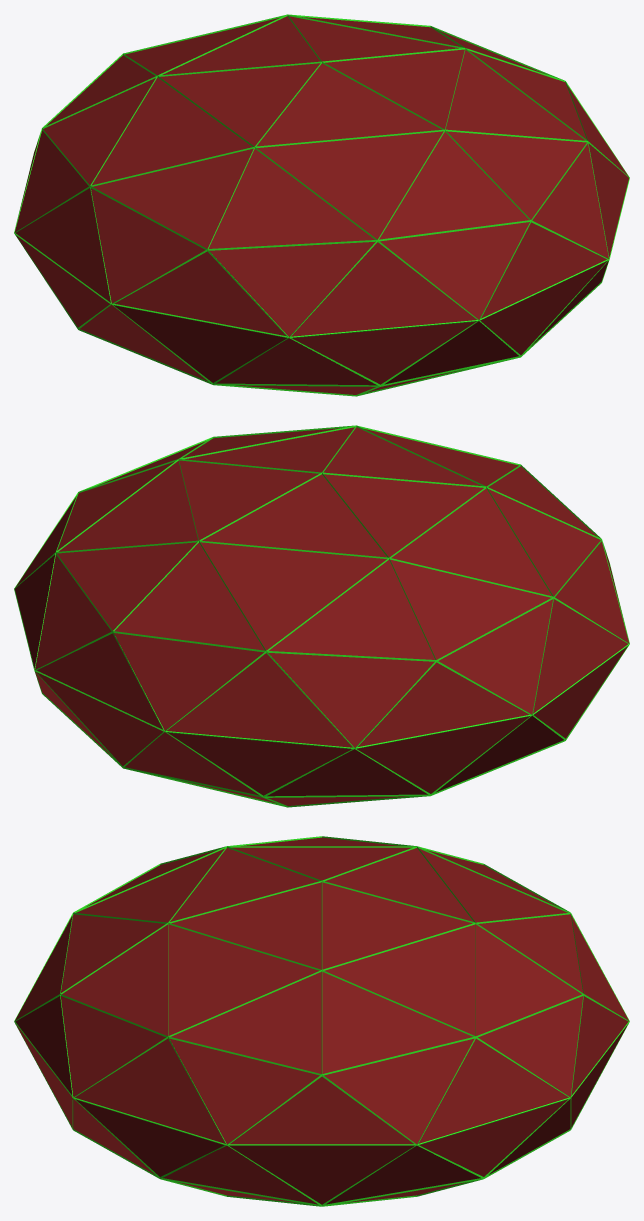
Rendered from world.obj.
3 views of the same model, one above another, from view 1: azimuth 30°, elevation 25°; view 2: azimuth 150°, elevation 25°; view 3: azimuth 270°, elevation 25° (orthographic). The views are drawn at different scales.
Parts seen in each view (by area): view 1: Icosphere; view 2: Icosphere; view 3: Icosphere.
Boxes of the visible parts, x1,y1,x2,y2 form: Icosphere: (14, 14, 629, 396); Icosphere: (14, 425, 629, 807); Icosphere: (14, 836, 629, 1206).
Size of the model in its own units: 19.04 by 10.1 by 20.02.
Materials: 2 (2 with a texture image).
